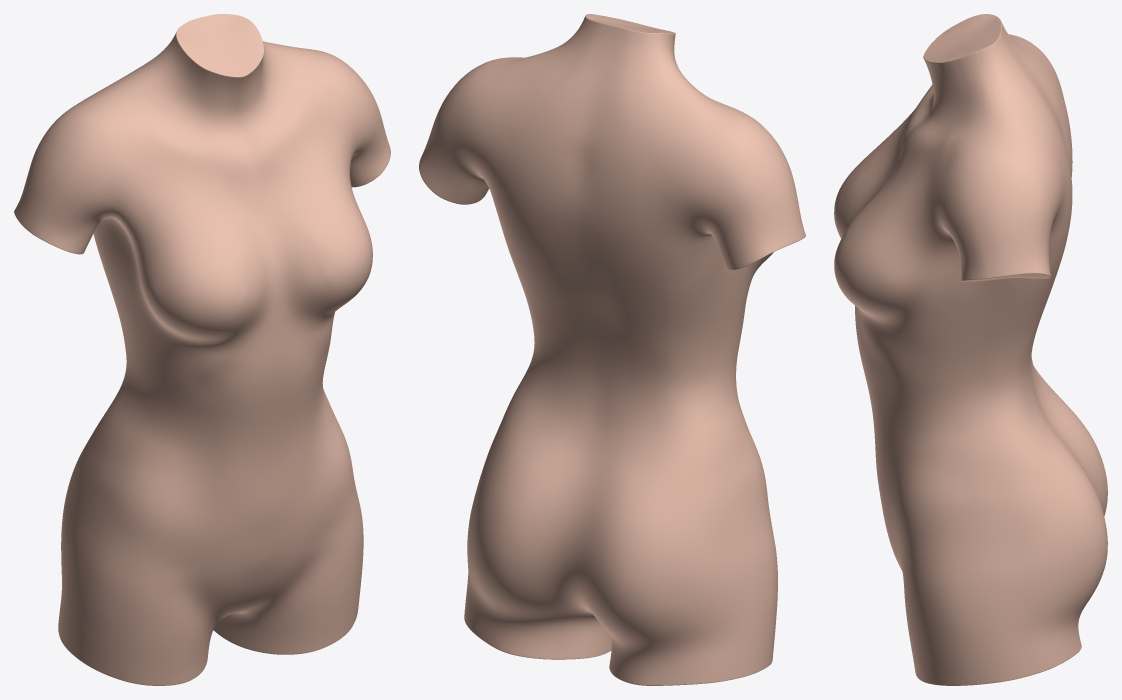
File: fem-torso-transLights1.gltf
3 renders of one model, left to right at view 1: azimuth 30°, elevation 25°; view 2: azimuth 150°, elevation 25°; view 3: azimuth 270°, elevation 25°, orthographic. The views are drawn at different scales.
Visible parts, largest first — view 1: 11542_femaletorso_v2; view 2: 11542_femaletorso_v2; view 3: 11542_femaletorso_v2.
Part boxes in pixels (x1,y1,x2,y2): 11542_femaletorso_v2: (14, 14, 390, 685); 11542_femaletorso_v2: (419, 14, 805, 685); 11542_femaletorso_v2: (834, 14, 1107, 685).
Bounding box in the file's own units: 9.88 × 16.25 × 6.58.
